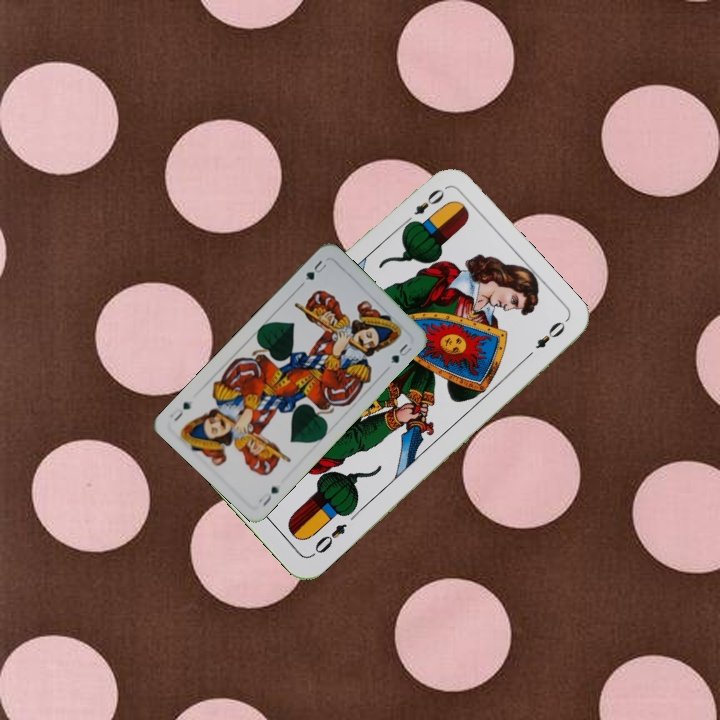EO: (399, 184, 448, 229), (307, 519, 350, 559)
GU: (301, 256, 329, 283), (254, 482, 281, 509)
